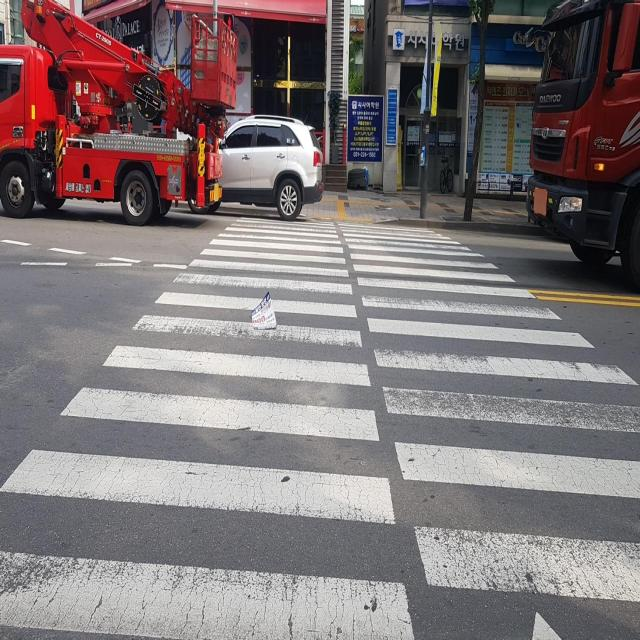횡단보도: (0, 212, 640, 640)
